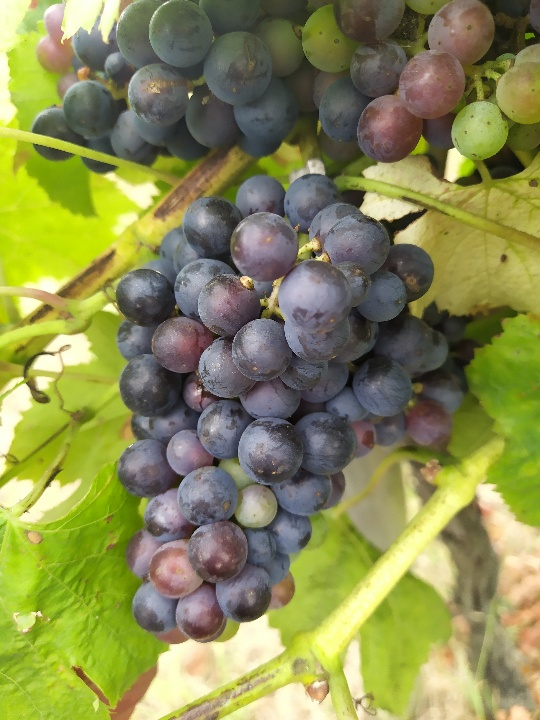grape: (108, 166, 458, 651)
